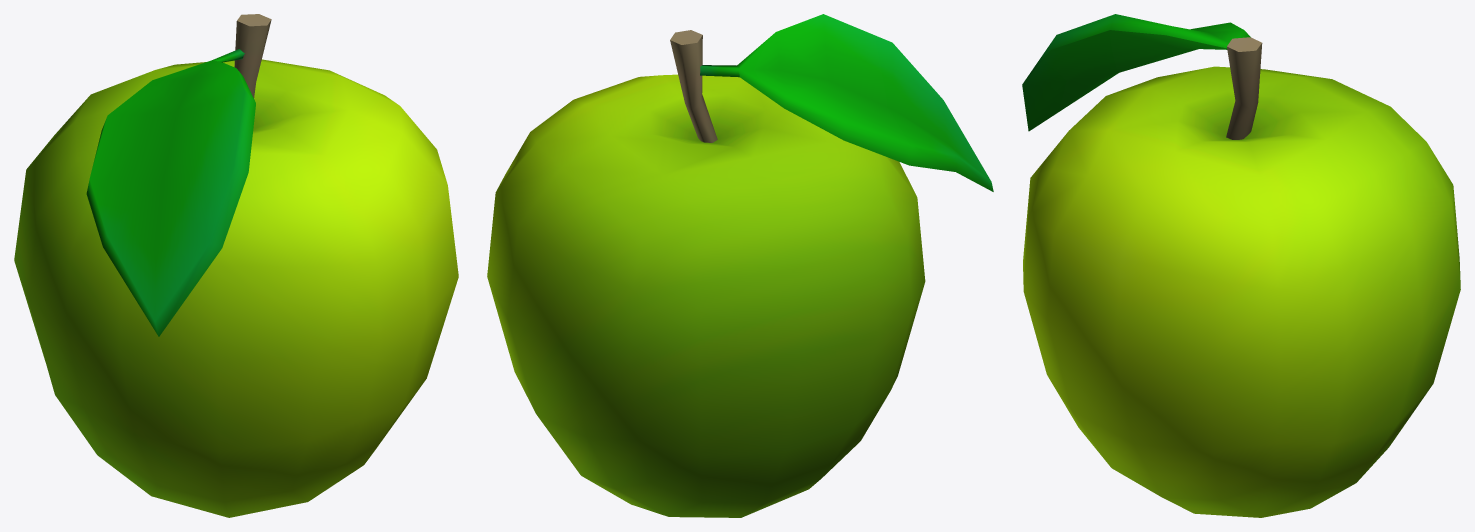
The model's file is apple.fbx.
3 views of the same model, side by side, from view 1: azimuth 30°, elevation 25°; view 2: azimuth 150°, elevation 25°; view 3: azimuth 270°, elevation 25° (orthographic).
Parts seen in each view (by area): view 1: apple; view 2: apple; view 3: apple.
Part boxes in pixels (left/top/right/bottom): apple: left=14, top=14, right=458, bottom=517; apple: left=487, top=14, right=993, bottom=517; apple: left=1022, top=14, right=1460, bottom=517.
Bounding box in the file's own units: 11.08 × 12.77 × 11.02.
